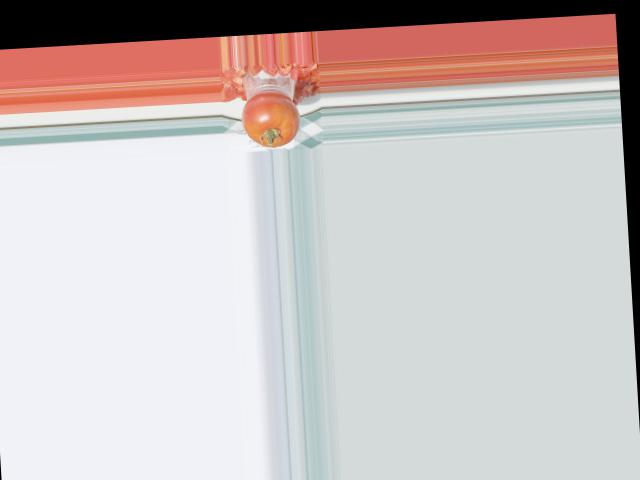tomato: (239, 90, 301, 149)
